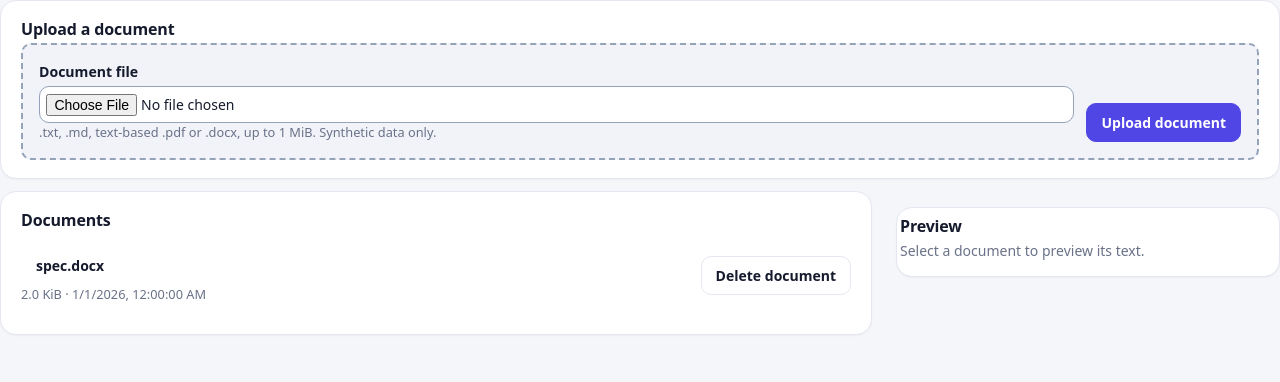
Test case: DocumentsSection › notes that the spec.docx preview is extracted text
What coordinates should you click on to do the following:
click the button "spec.docx"
I would click on:
 (70, 266)
Its box is [21,246,119,285].
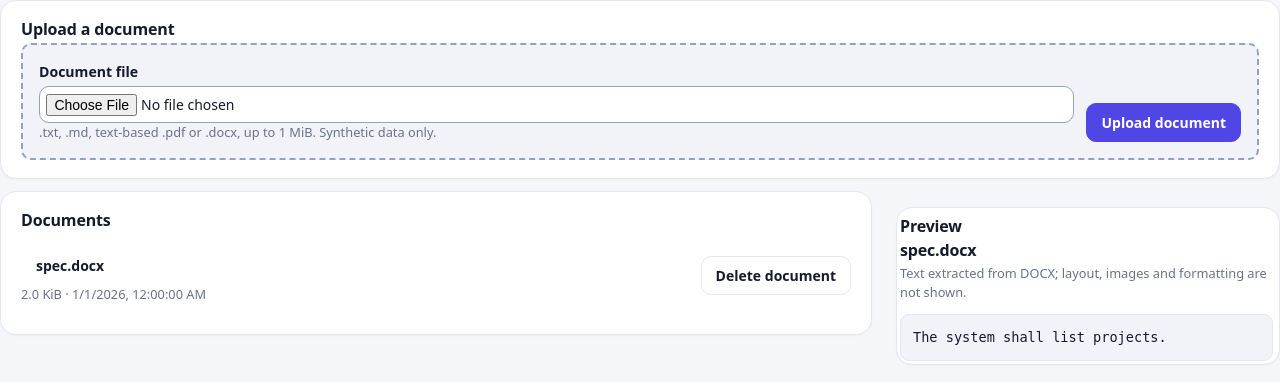
Expected: the text "The system shall list projects." is shown, [900,314,1273,361]
